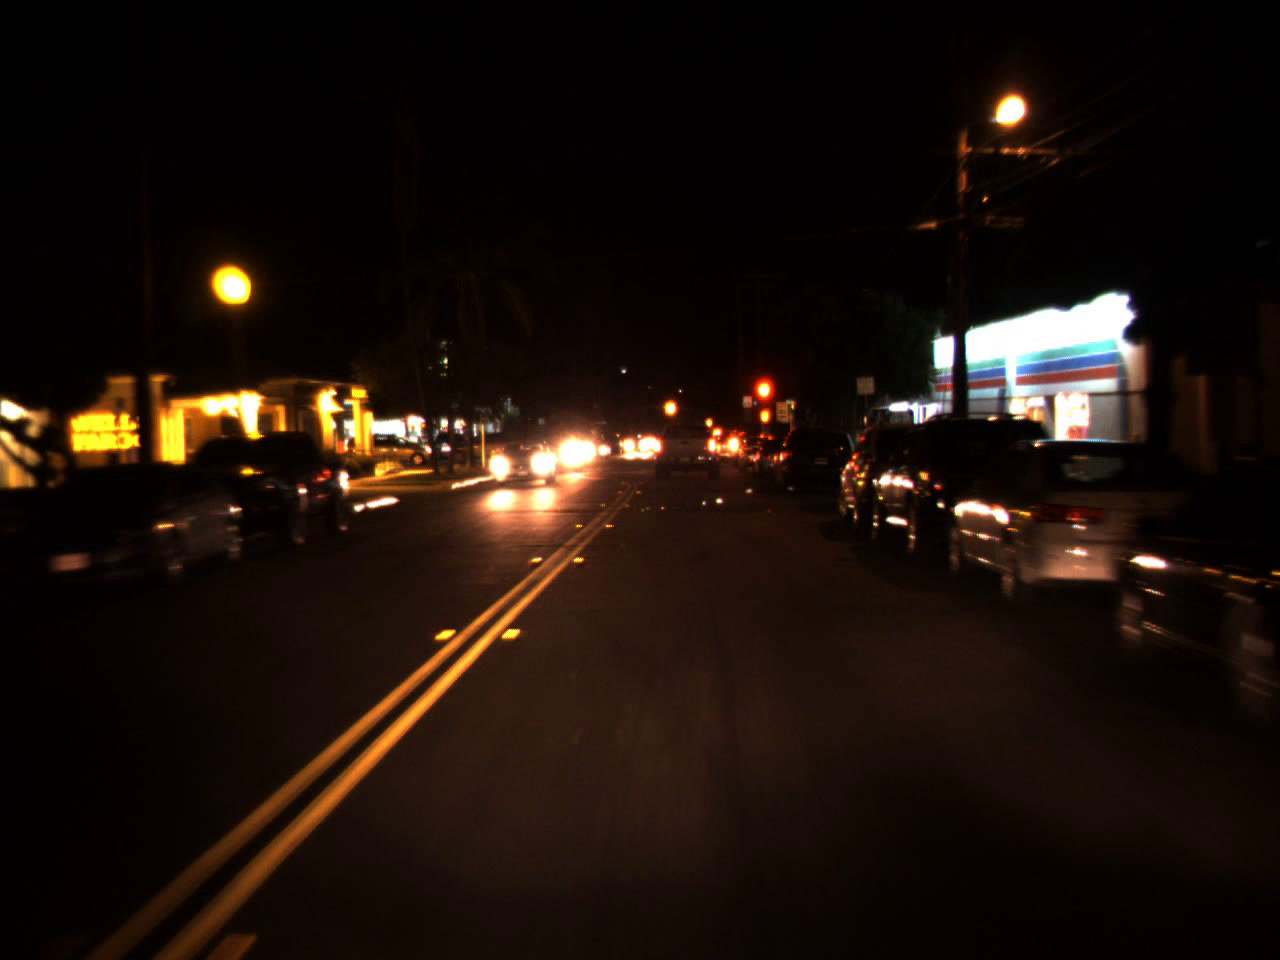stop: (749, 372, 779, 434)
warning: (662, 387, 680, 427), (703, 413, 714, 430)
